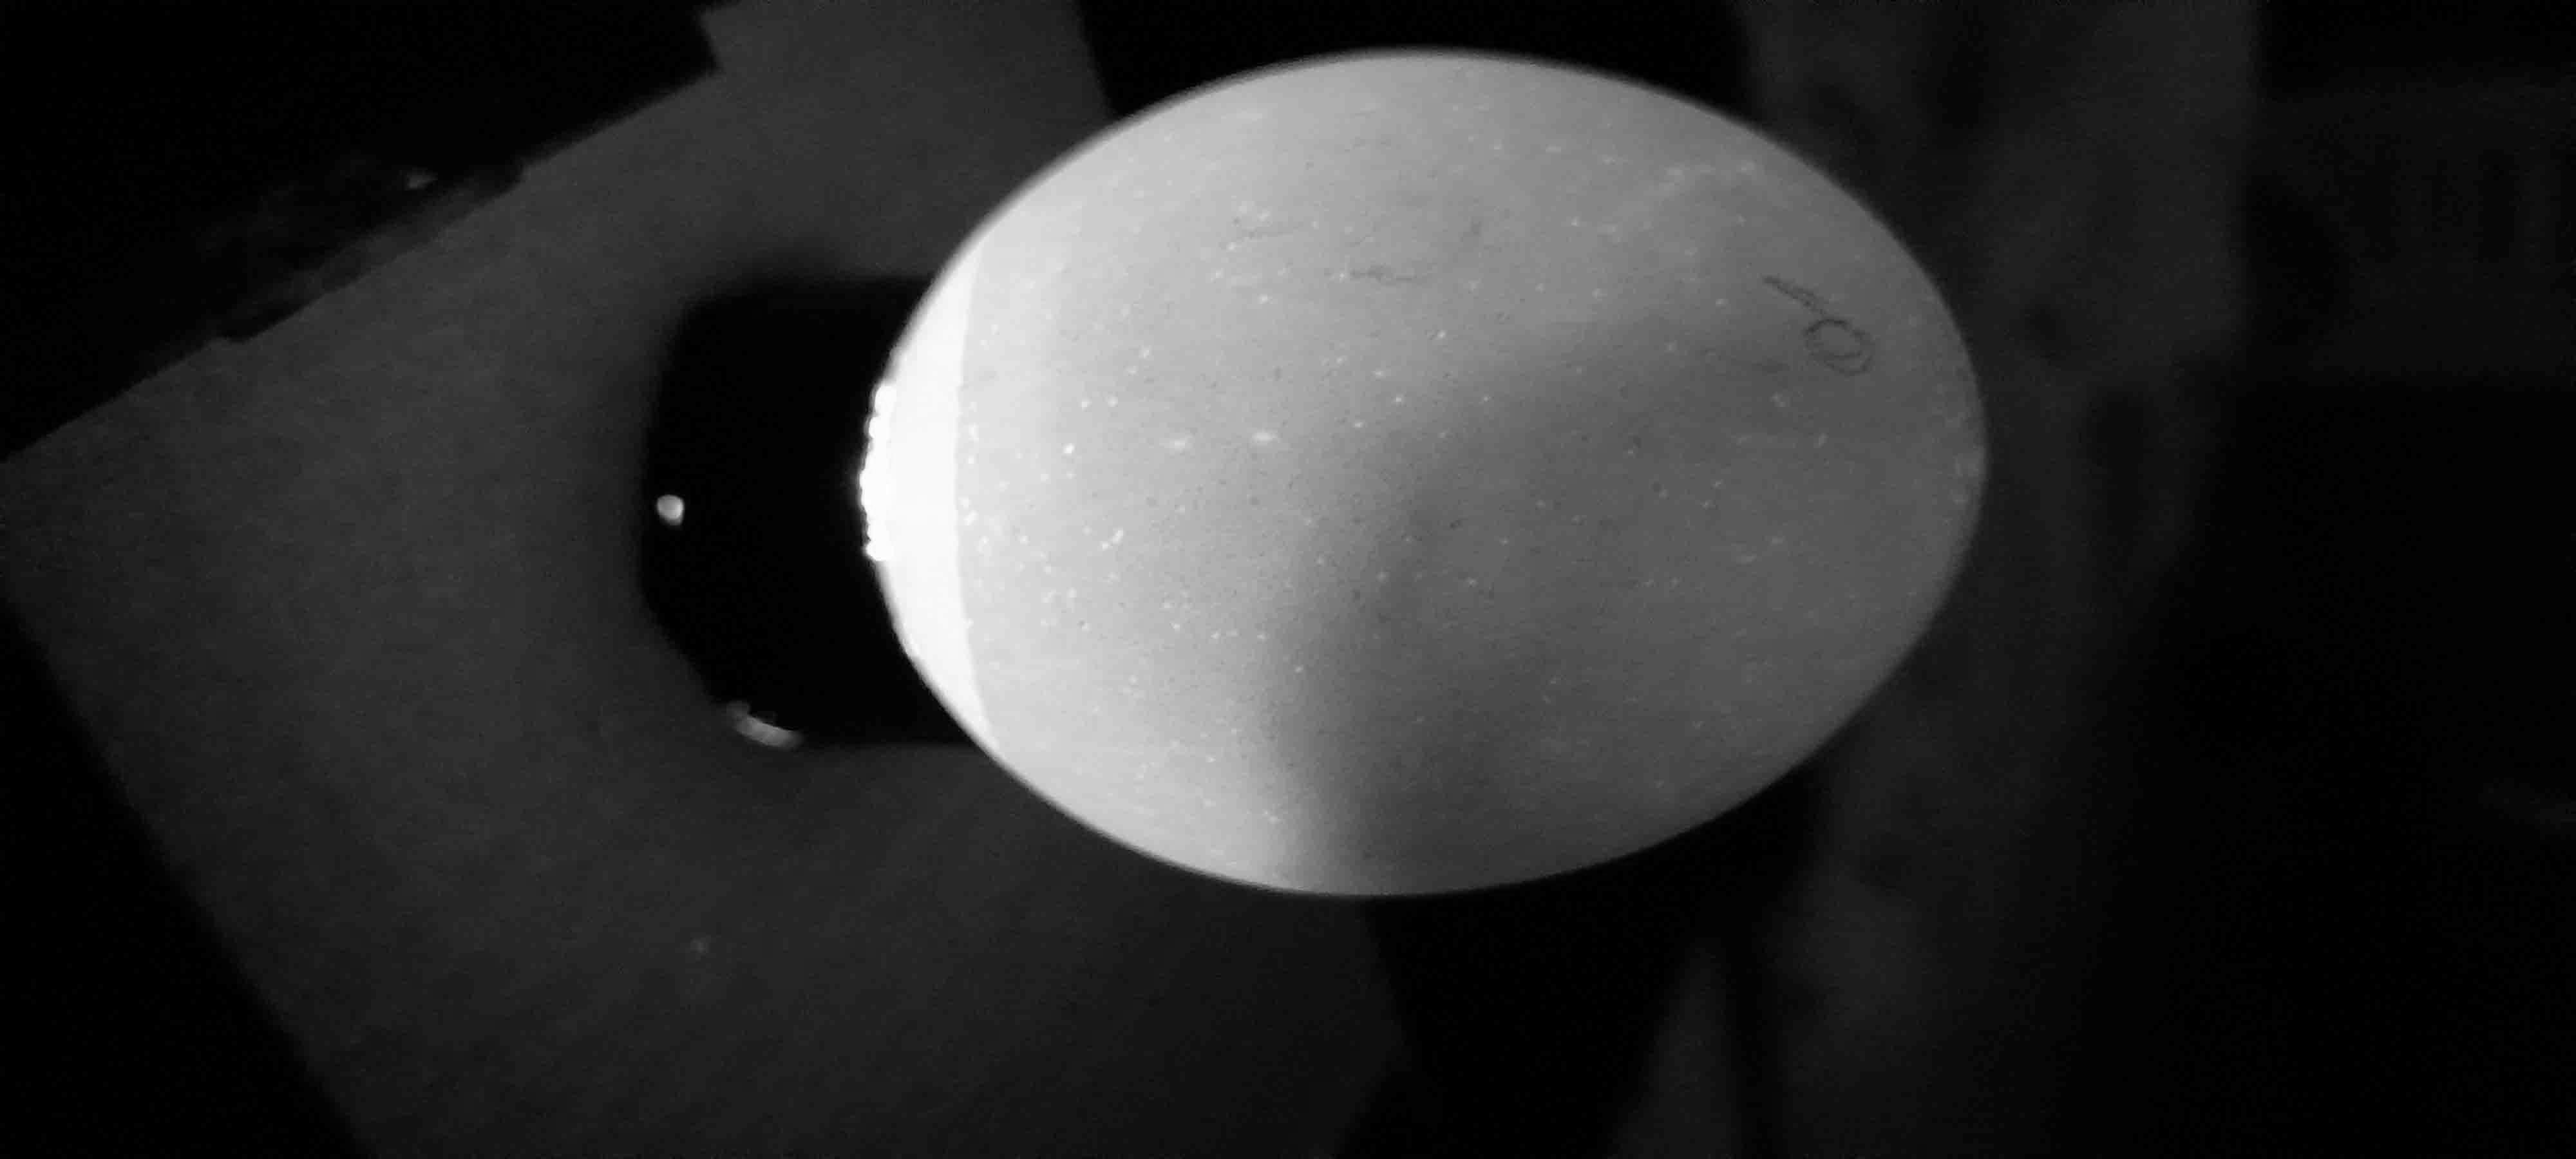telur: (844, 36, 2017, 921)
